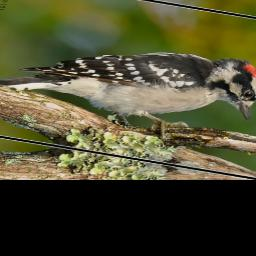Woodpecker: (0, 17, 256, 149)
